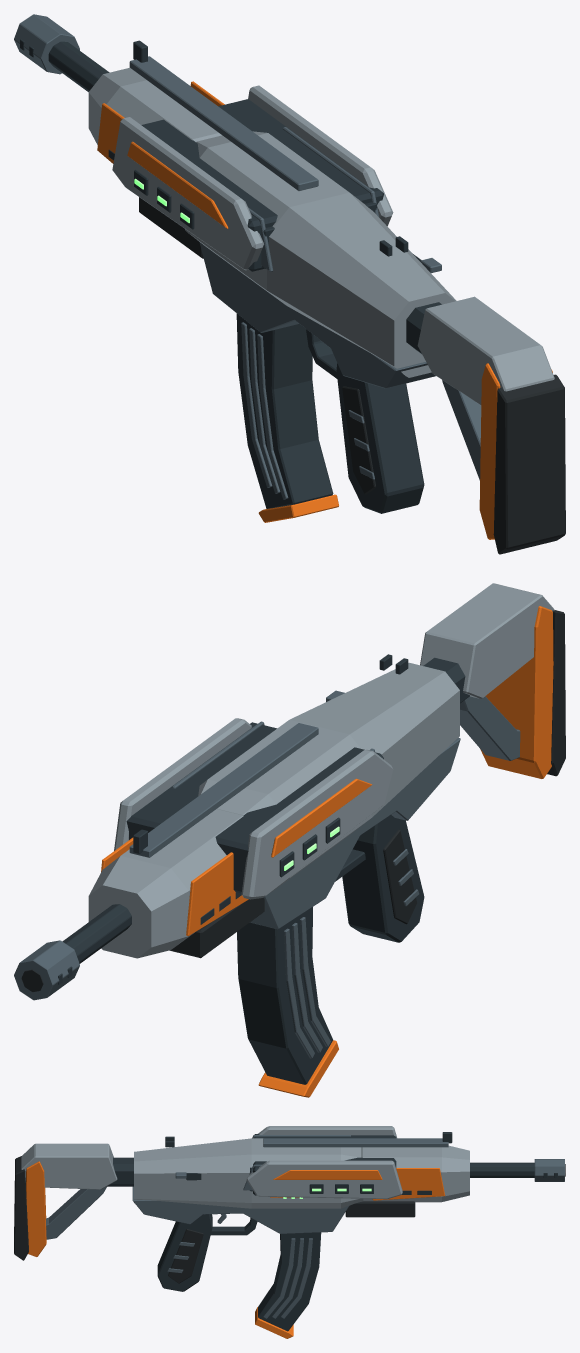
Rendered from battlerifle.glb.
The picture shows the model from 3 angles, top to bottom: view 1: azimuth 30°, elevation 25°; view 2: azimuth 150°, elevation 25°; view 3: azimuth 270°, elevation 25°; orthographic projection. The views are drawn at different scales.
Parts seen in each view (by area): view 1: Body | 01 | ceramic gray receiver, Body | 03 | graphite steel, Body | 02 | machined edge metal, Body | 05 | charcoal grip polymer, Magazine | 03 | graphite steel, Body | 04 | burnt orange enamel, Magazine | 02 | machined edge metal, Magazine | 04 | burnt orange enamel; view 2: Body | 01 | ceramic gray receiver, Body | 02 | machined edge metal, Body | 03 | graphite steel, Body | 04 | burnt orange enamel, Magazine | 03 | graphite steel, Body | 05 | charcoal grip polymer, Magazine | 02 | machined edge metal, Magazine | 04 | burnt orange enamel; view 3: Body | 01 | ceramic gray receiver, Body | 02 | machined edge metal, Body | 03 | graphite steel, Body | 04 | burnt orange enamel, Body | 05 | charcoal grip polymer, Magazine | 03 | graphite steel, Magazine | 02 | machined edge metal, Magazine | 04 | burnt orange enamel.
Part boxes in pixels (bbox=[...]): Body | 01 | ceramic gray receiver: bbox=[88, 67, 554, 405]; Body | 03 | graphite steel: bbox=[20, 39, 441, 513]; Body | 02 | machined edge metal: bbox=[14, 14, 481, 480]; Body | 05 | charcoal grip polymer: bbox=[139, 197, 565, 554]; Magazine | 03 | graphite steel: bbox=[236, 313, 333, 508]; Body | 04 | burnt orange enamel: bbox=[97, 81, 552, 539]; Magazine | 02 | machined edge metal: bbox=[241, 322, 288, 499]; Magazine | 04 | burnt orange enamel: bbox=[258, 494, 338, 522]; Body | 01 | ceramic gray receiver: bbox=[88, 583, 554, 958]; Body | 02 | machined edge metal: bbox=[14, 690, 520, 1000]; Body | 03 | graphite steel: bbox=[58, 654, 469, 984]; Body | 04 | burnt orange enamel: bbox=[101, 606, 553, 936]; Magazine | 03 | graphite steel: bbox=[237, 907, 332, 1084]; Body | 05 | charcoal grip polymer: bbox=[21, 610, 565, 991]; Magazine | 02 | machined edge metal: bbox=[284, 917, 330, 1058]; Magazine | 04 | burnt orange enamel: bbox=[258, 1040, 338, 1097]; Body | 01 | ceramic gray receiver: bbox=[21, 1126, 469, 1208]; Body | 02 | machined edge metal: bbox=[46, 1135, 564, 1273]; Body | 03 | graphite steel: bbox=[107, 1132, 557, 1291]; Body | 04 | burnt orange enamel: bbox=[26, 1161, 445, 1256]; Body | 05 | charcoal grip polymer: bbox=[14, 1156, 565, 1283]; Magazine | 03 | graphite steel: bbox=[258, 1232, 321, 1331]; Magazine | 02 | machined edge metal: bbox=[263, 1238, 312, 1318]; Magazine | 04 | burnt orange enamel: bbox=[255, 1307, 293, 1338].
Size of the model in its own units: 0.164 by 0.3793 by 0.9473.
